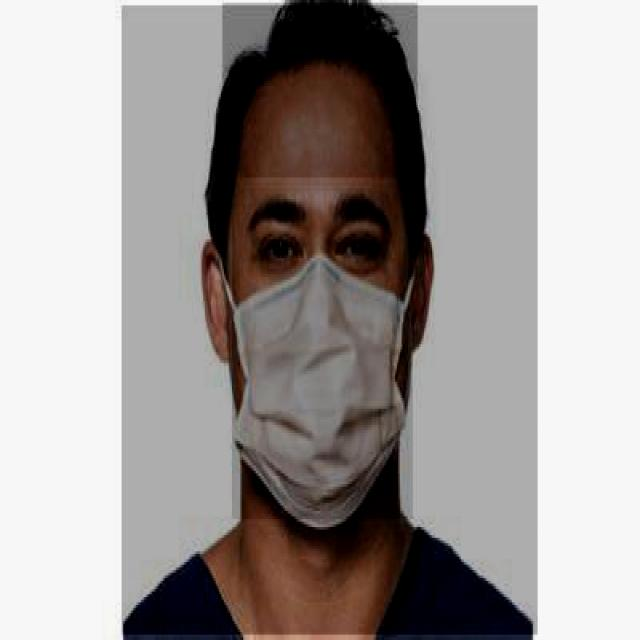face_mask: (230, 178, 413, 522)
head_nohelmet: (220, 3, 418, 180)
person: (120, 5, 538, 638)
